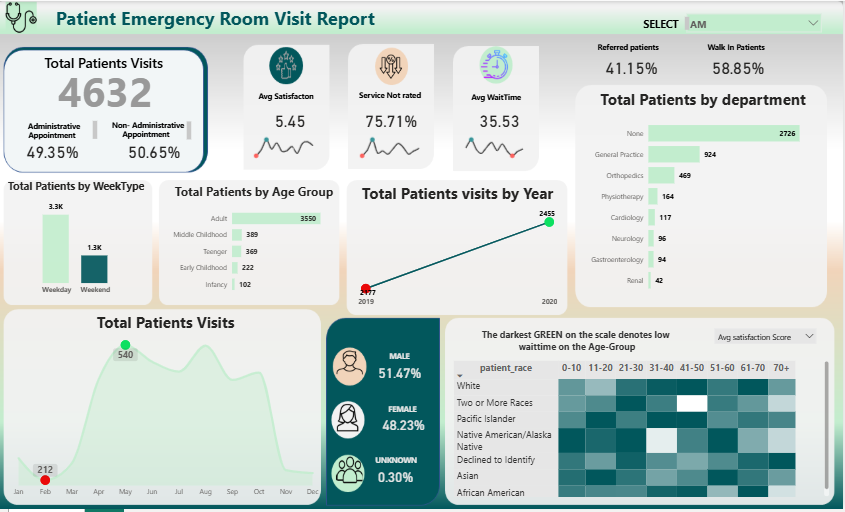

Layout of this report page (visuals, bound fields, positions):
{"tool":"powerbi","page":{"name":"Page 1","canvas":[1500,900],"ordinal":0},"visuals":[{"type":"slicer","fields":{"Values":["Parameter.Parameter"]},"box":[1261.4,570.5,200.2,62],"z":0},{"type":"card","fields":{"Values":["Measures (2).Total Patients"]},"box":[99.2,108.1,186,93.9],"z":1000},{"type":"card","fields":{"Values":["Measures (2).% Administrative Schedule"]},"box":[26.6,239.2,143.5,53.1],"z":2000},{"type":"card","fields":{"Values":["Measures (2).% Non-Administrative Schedule"]},"box":[210.8,239.2,134.6,53.1],"z":3000},{"type":"card","fields":{"Values":["Measures (2).Avg satisfaction Score"]},"box":[455.3,182.5,127.6,56.7],"z":4000},{"type":"card","fields":{"Values":["Measures (2).% Noratings"]},"box":[628.9,182.5,138.2,56.7],"z":5000},{"type":"card","fields":{"Values":["Measures (2).Average waittime"]},"box":[822,180.7,136.4,60.2],"z":6000},{"type":"pivotTable","fields":{"Values":["Measures (2).Average waittime"],"Rows":["Patient_Dataset.patient_race"],"Columns":["Patient_Dataset.Age Bucket"]},"box":[804.3,632.5,675,249.8],"z":7000},{"type":"card","fields":{"Values":["Measures (2).Heatmap caption"]},"box":[804.3,570.5,446.5,62],"z":8000},{"type":"clusteredBarChart","fields":{"Category":["Patient_Dataset.Age Group"],"Y":["Measures (2).Total Patients"]},"box":[299.4,322.4,311.8,207.3],"z":9000},{"type":"card","fields":{"Values":["Measures (2).% Referred Patients"]},"box":[1036.4,93.9,175.4,46.1],"z":10000},{"type":"card","fields":{"Values":["Measures (2).% Un Referred Patients"]},"box":[1231.3,93.9,163,46.1],"z":11000},{"type":"clusteredBarChart","title":"Total Patients by department","fields":{"Category":["Patient_Dataset.department_referral"],"Y":["Measures (2).Total Patients"]},"box":[1040,155.9,421.7,373.8],"z":12000},{"type":"slicer","title":"Choose ","fields":{"Values":["Patient_Dataset.Moment"]},"box":[1211.8,12.4,258.7,44.3],"z":13000},{"type":"areaChart","title":"Total Patients Visits","fields":{"Category":["Date.Month"],"Y":["Measures (2).Total Patients","Measures (2).Values Max_Min Point(Month)"]},"box":[14.4,550.8,568.8,336.6],"z":14000},{"type":"clusteredColumnChart","fields":{"Category":["Date.WeekType"],"Y":["Measures (2).Total Patients"]},"box":[14.2,315.4,251.6,214.4],"z":15000},{"type":"lineChart","title":"Total Patients visits by Year","fields":{"Category":["Date.Year"],"Y":["Measures (2).Total Patients","Measures (2).Values Max_Min Point(Year)"]},"box":[634.3,322.4,363.2,228.5],"z":16000},{"type":"card","fields":{"Values":["Measures (2).% of Male Visit"]},"box":[666.1,632.5,93.9,51.4],"z":17000},{"type":"card","fields":{"Values":["Measures (2).% of Female Visit"]},"box":[655.5,719.3,129.3,63.8],"z":18000},{"type":"card","fields":{"Values":["Measures (2).% of Unknown Visit"]},"box":[652,822,108.1,42.5],"z":19000},{"type":"textbox","box":[76.2,88.6,232.1,51.4],"z":20000},{"type":"textbox","box":[26.6,207.3,155.9,42.5],"z":21000},{"type":"PBI_CV_25997FEB_F466_44FA_B562_AC4063283C4C","fields":{"axis":["Date.Month"],"measure":["Measures (2).Avg satisfaction Score"]},"box":[441.1,228.5,140,56.7],"z":22000},{"type":"PBI_CV_25997FEB_F466_44FA_B562_AC4063283C4C","fields":{"axis":["Date.Month"],"measure":["Measures (2).% Noratings"]},"box":[628.9,228.5,140,56.7],"z":23000},{"type":"PBI_CV_25997FEB_F466_44FA_B562_AC4063283C4C","fields":{"axis":["Date.Month"],"measure":["Measures (2).Average waittime"]},"box":[813.2,228.5,140,56.7],"z":24000},{"type":"textbox","box":[193.1,207.3,155.9,42.5],"z":25000},{"type":"textbox","box":[434.1,154.1,155.9,42.5],"z":26000},{"type":"textbox","box":[620.1,152.4,155.9,42.5],"z":27000},{"type":"textbox","box":[811.4,155.9,141.7,42.5],"z":28000},{"type":"textbox","box":[1040,67.3,155.9,42.5],"z":29000},{"type":"textbox","box":[1231.3,67.3,155.9,37.2],"z":30000},{"type":"textbox","box":[676.8,614.8,79.7,33.7],"z":31000},{"type":"textbox","box":[666.1,708.7,104.5,42.5],"z":32000},{"type":"textbox","box":[660.8,799,92.1,44.3],"z":33000},{"type":"textbox","box":[99.2,1.8,577.6,54.9],"z":34000},{"type":"textbox","box":[1128.5,23,102.8,34],"z":35000}]}

Visuals, with their boxes in screenshot pixels (x1, y1, x2, y2), scaled from the page's 1500x900 canvas onto the 845x512 screenshot:
slicer - Parameter.Parameter: select_region(711, 325, 823, 360)
card - Measures (2).Total Patients: select_region(56, 61, 161, 115)
card - Measures (2).% Administrative Schedule: select_region(15, 136, 96, 166)
card - Measures (2).% Non-Administrative Schedule: select_region(119, 136, 195, 166)
card - Measures (2).Avg satisfaction Score: select_region(256, 104, 328, 136)
card - Measures (2).% Noratings: select_region(354, 104, 432, 136)
card - Measures (2).Average waittime: select_region(463, 103, 540, 137)
pivotTable - Measures (2).Average waittime x Patient_Dataset.patient_race: select_region(453, 360, 833, 502)
card - Measures (2).Heatmap caption: select_region(453, 325, 705, 360)
clusteredBarChart - Patient_Dataset.Age Group x Measures (2).Total Patients: select_region(169, 183, 344, 301)
card - Measures (2).% Referred Patients: select_region(584, 53, 683, 80)
card - Measures (2).% Un Referred Patients: select_region(694, 53, 785, 80)
"Total Patients by department" clusteredBarChart: select_region(586, 89, 823, 301)
"Choose " slicer: select_region(683, 7, 828, 32)
"Total Patients Visits" areaChart: select_region(8, 313, 329, 505)
clusteredColumnChart - Date.WeekType x Measures (2).Total Patients: select_region(8, 179, 150, 301)
"Total Patients visits by Year" lineChart: select_region(357, 183, 562, 313)
card - Measures (2).% of Male Visit: select_region(375, 360, 428, 389)
card - Measures (2).% of Female Visit: select_region(369, 409, 442, 445)
card - Measures (2).% of Unknown Visit: select_region(367, 468, 428, 492)
textbox: select_region(43, 50, 174, 80)
textbox: select_region(15, 118, 103, 142)
PBI_CV_25997FEB_F466_44FA_B562_AC4063283C4C - Date.Month x Measures (2).Avg satisfaction Score: select_region(248, 130, 327, 162)
PBI_CV_25997FEB_F466_44FA_B562_AC4063283C4C - Date.Month x Measures (2).% Noratings: select_region(354, 130, 433, 162)
PBI_CV_25997FEB_F466_44FA_B562_AC4063283C4C - Date.Month x Measures (2).Average waittime: select_region(458, 130, 537, 162)
textbox: select_region(109, 118, 197, 142)
textbox: select_region(245, 88, 332, 112)
textbox: select_region(349, 87, 437, 111)
textbox: select_region(457, 89, 537, 113)
textbox: select_region(586, 38, 674, 62)
textbox: select_region(694, 38, 781, 59)
textbox: select_region(381, 350, 426, 369)
textbox: select_region(375, 403, 434, 427)
textbox: select_region(372, 455, 424, 480)
textbox: select_region(56, 1, 381, 32)
textbox: select_region(636, 13, 694, 32)
